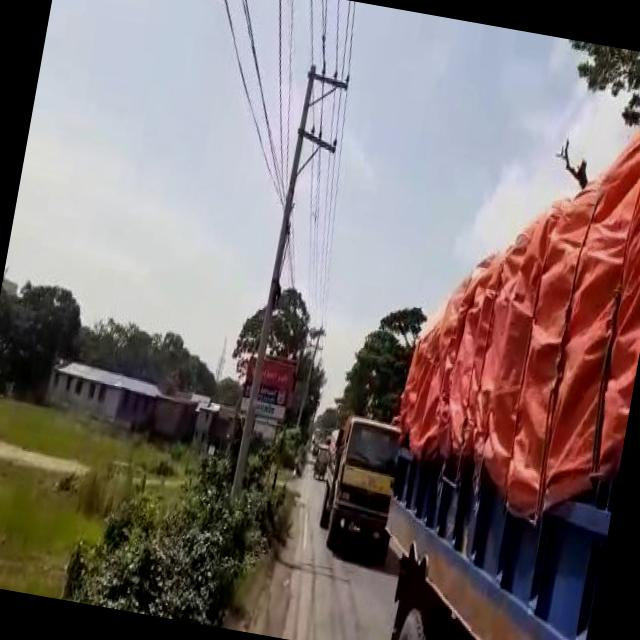motorcycle: (313, 438, 333, 478)
truck: (360, 63, 640, 640), (313, 408, 405, 554)
